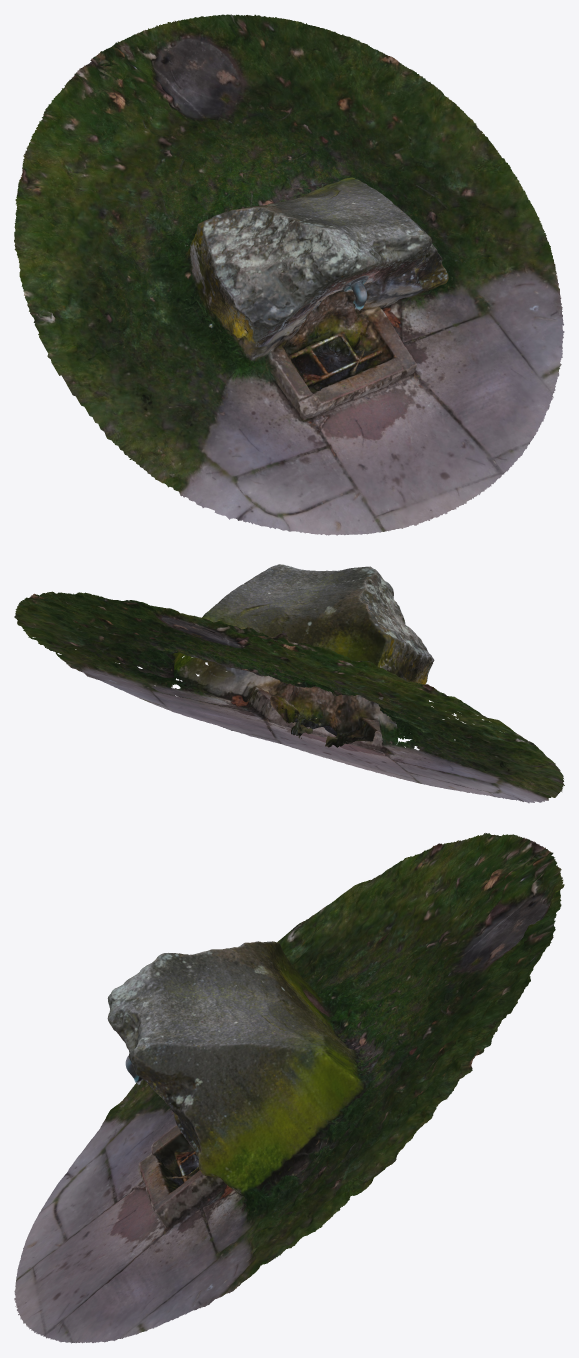
The model's file is german_boulder_park_fountain.glb.
3 renders of one model, top to bottom at view 1: azimuth 30°, elevation 25°; view 2: azimuth 150°, elevation 25°; view 3: azimuth 270°, elevation 25°, orthographic. The views are drawn at different scales.
Visible parts, largest first — view 1: Object_3, Object_2, Object_4; view 2: Object_2, Object_3, Object_4; view 3: Object_3, Object_2, Object_4.
Part boxes in pixels (x1=…): Object_3: x1=14, y1=14, x2=564, y2=505; Object_2: x1=51, y1=181, x2=559, y2=535; Object_4: x1=14, y1=196, x2=562, y2=362; Object_2: x1=141, y1=564, x2=564, y2=803; Object_3: x1=14, y1=591, x2=527, y2=762; Object_4: x1=29, y1=615, x2=550, y2=759; Object_3: x1=23, y1=833, x2=564, y2=1343; Object_2: x1=14, y1=941, x2=306, y2=1343; Object_4: x1=186, y1=880, x2=395, y2=1308.
Bounding box in the file's own units: 13.36 × 8.55 × 10.54.
Materials: 1 (1 with a texture image).
